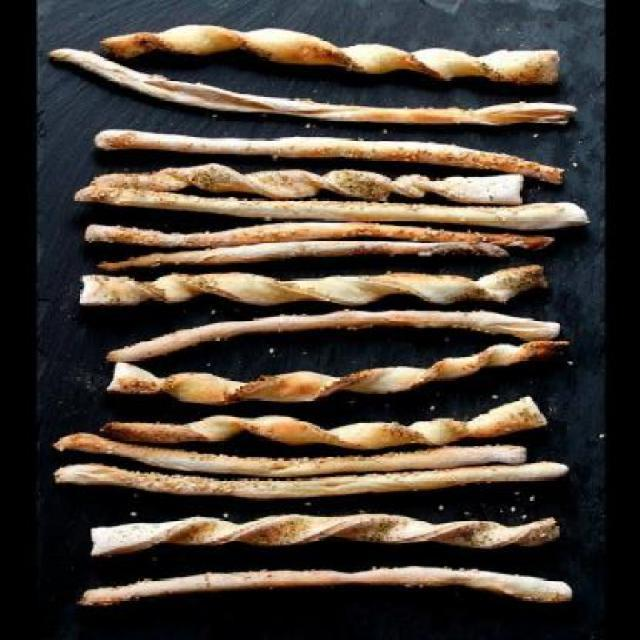Grissini: (61, 25, 585, 612)
